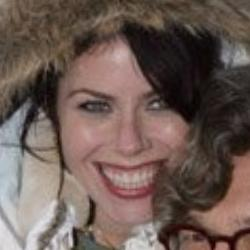face: (12, 8, 236, 224)
